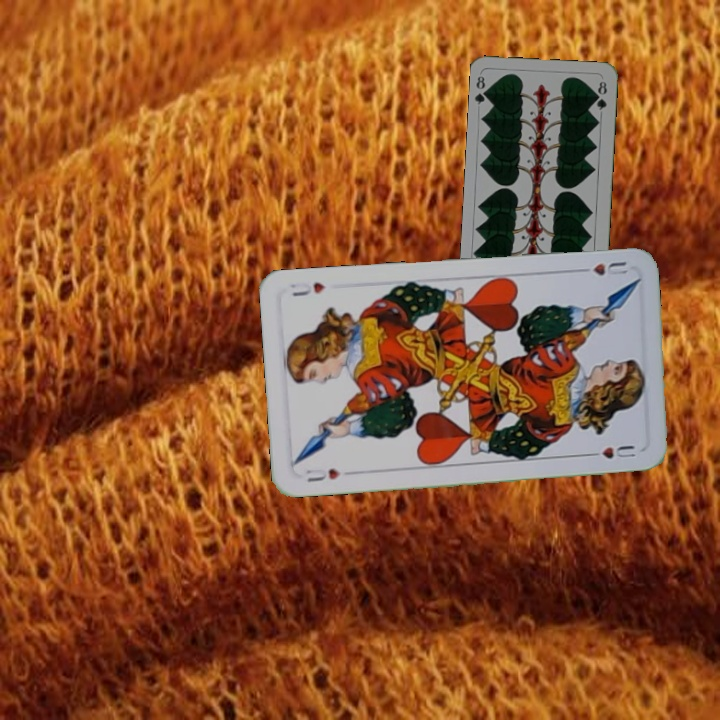G8: (471, 72, 492, 107)
HU: (573, 258, 630, 280), (302, 464, 343, 485)
